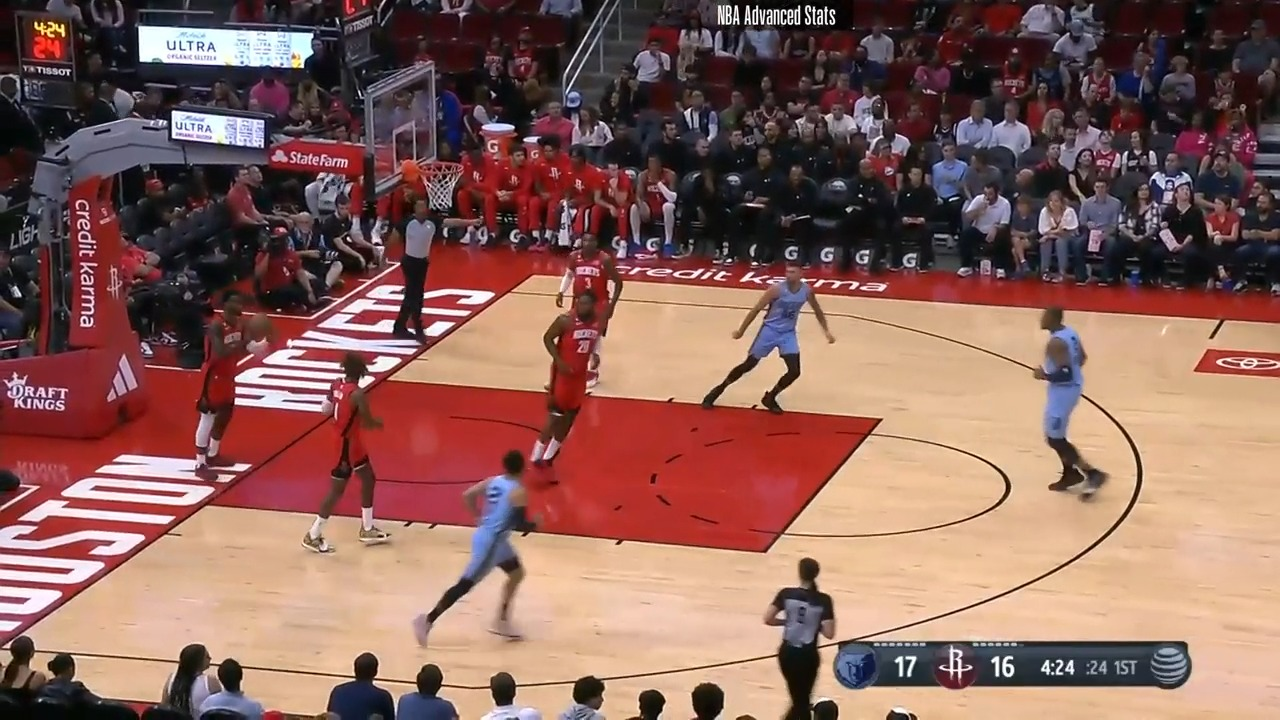net: (402, 152, 471, 216)
player: (416, 449, 554, 651), (701, 258, 838, 416), (317, 351, 410, 558), (196, 289, 284, 489), (1036, 301, 1117, 508), (528, 287, 606, 478), (557, 233, 626, 397)
referee: (763, 555, 844, 720), (387, 196, 443, 342)
